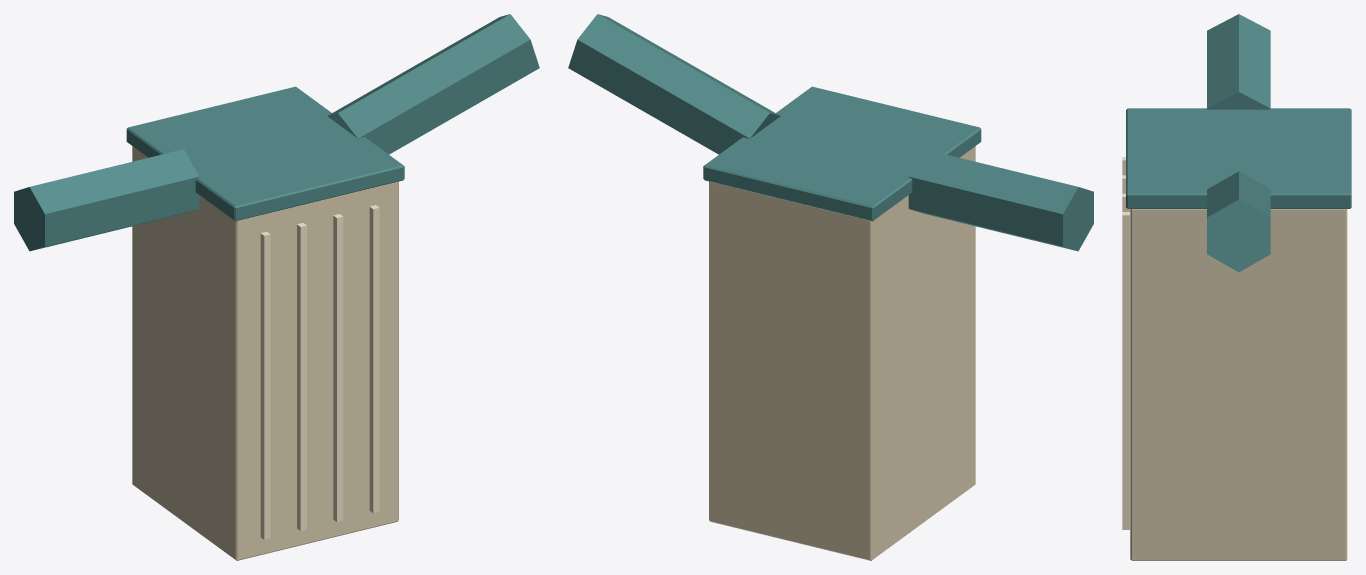
The model's file is hsc3_power_flue_filter.glb.
The picture shows the model from 3 angles, left to right: view 1: azimuth 30°, elevation 25°; view 2: azimuth 150°, elevation 25°; view 3: azimuth 270°, elevation 25°; orthographic projection. The views are drawn at different scales.
Visible parts, largest first — view 1: hsc3_power_flue_filter__hsc3-cream-enamel, hsc3_power_flue_filter__hsc3-deep-teal, hsc3_power_flue_filter__hsc3-pale-trim; view 2: hsc3_power_flue_filter__hsc3-cream-enamel, hsc3_power_flue_filter__hsc3-deep-teal; view 3: hsc3_power_flue_filter__hsc3-cream-enamel, hsc3_power_flue_filter__hsc3-deep-teal, hsc3_power_flue_filter__hsc3-pale-trim.
Boxes of the visible parts, x1=… form: hsc3_power_flue_filter__hsc3-cream-enamel: x1=132, y1=146, x2=398, y2=560; hsc3_power_flue_filter__hsc3-deep-teal: x1=14, y1=14, x2=539, y2=251; hsc3_power_flue_filter__hsc3-pale-trim: x1=260, y1=205, x2=379, y2=539; hsc3_power_flue_filter__hsc3-cream-enamel: x1=709, y1=146, x2=975, y2=560; hsc3_power_flue_filter__hsc3-deep-teal: x1=568, y1=14, x2=1093, y2=251; hsc3_power_flue_filter__hsc3-cream-enamel: x1=1130, y1=209, x2=1347, y2=560; hsc3_power_flue_filter__hsc3-deep-teal: x1=1126, y1=14, x2=1351, y2=272; hsc3_power_flue_filter__hsc3-pale-trim: x1=1122, y1=157, x2=1129, y2=529.
Bounding box in the file's own units: 27.51 × 22.62 × 10.57.
